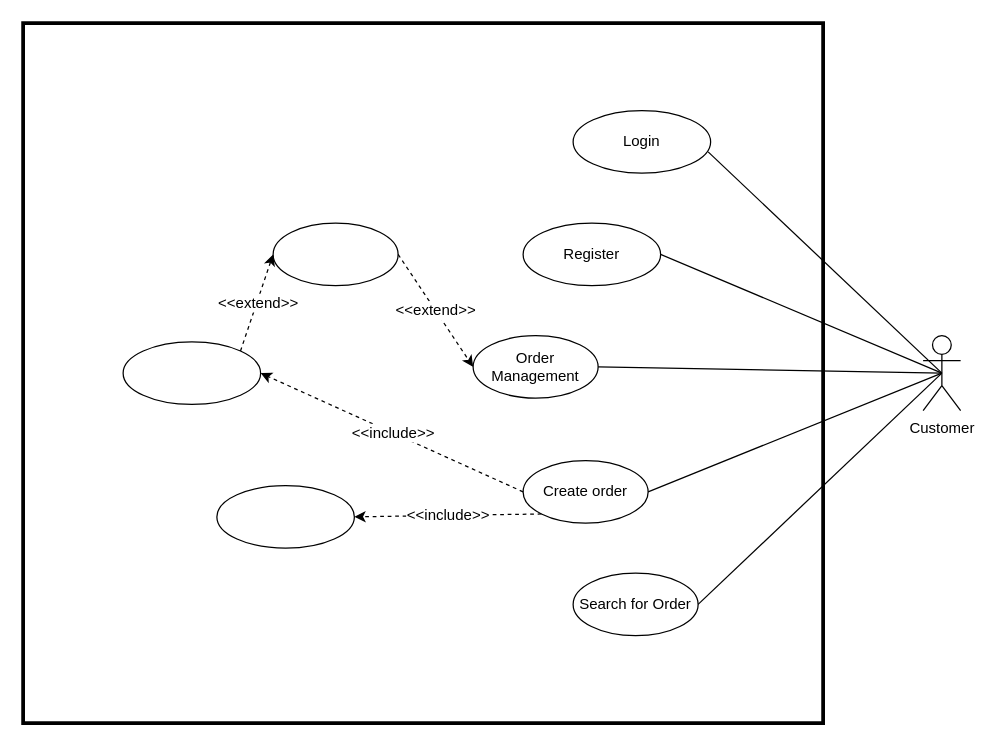
This 996x746 diagram has some shape labels left out. The box of each missing label's shape, as (x1, y1, x2, y2) in pixels:
Find consignee location: (216, 484, 354, 548)
Navigate and calculate distance: (122, 341, 261, 404)
View order: (272, 222, 398, 286)
